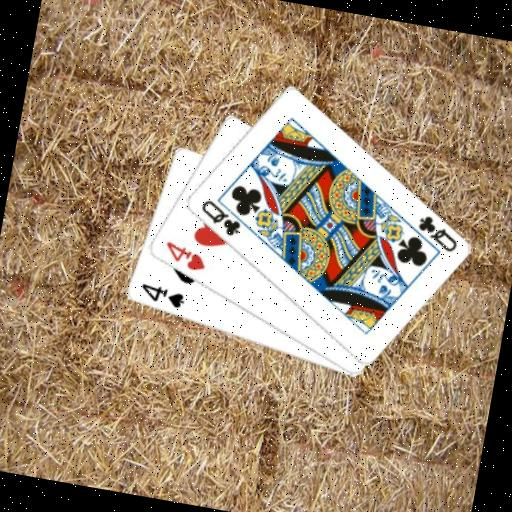4H: (159, 237, 210, 274)
4S: (135, 279, 187, 311)
QC: (410, 210, 463, 255), (193, 195, 246, 239)
